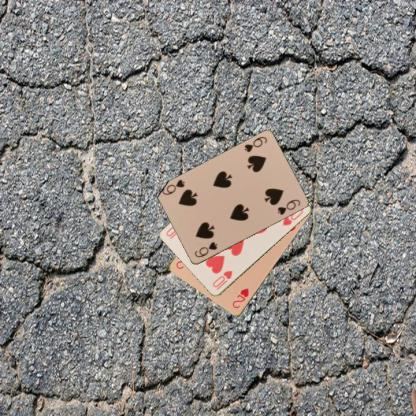10h: (210, 268, 234, 291)
2h: (230, 286, 252, 310)
6s: (192, 239, 218, 259), (242, 134, 268, 154)
